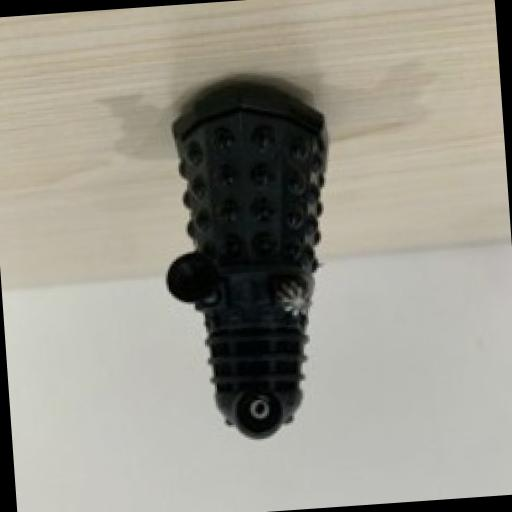dalek: (149, 76, 349, 453)
